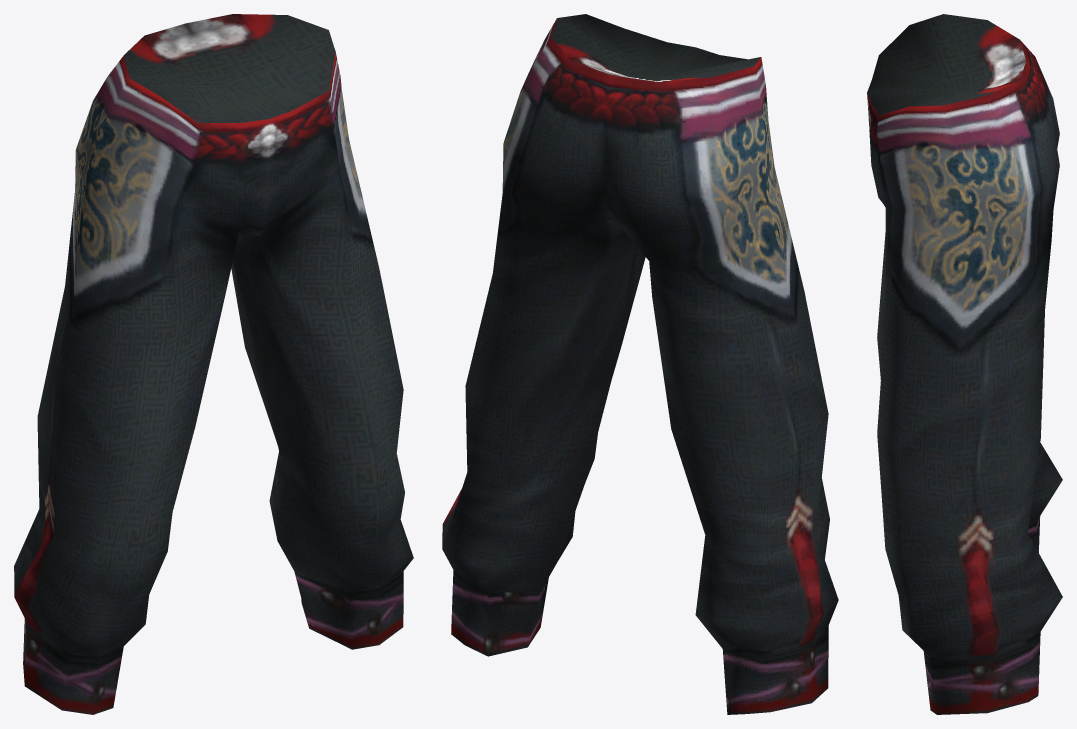
Rendered from clothes_03_la.glb.
3 renders of one model, left to right at view 1: azimuth 30°, elevation 25°; view 2: azimuth 150°, elevation 25°; view 3: azimuth 270°, elevation 25°, orthographic. The views are drawn at different scales.
Parts seen in each view (by area): view 1: clothes_03_la; view 2: clothes_03_la; view 3: clothes_03_la.
Part boxes in pixels (x1,y1,x2,y2): clothes_03_la: [14, 14, 413, 714]; clothes_03_la: [442, 14, 838, 714]; clothes_03_la: [867, 14, 1062, 714].
Bounding box in the file's own units: 0.4899 × 0.7666 × 0.2315.
Materials: 1 (1 with a texture image).
